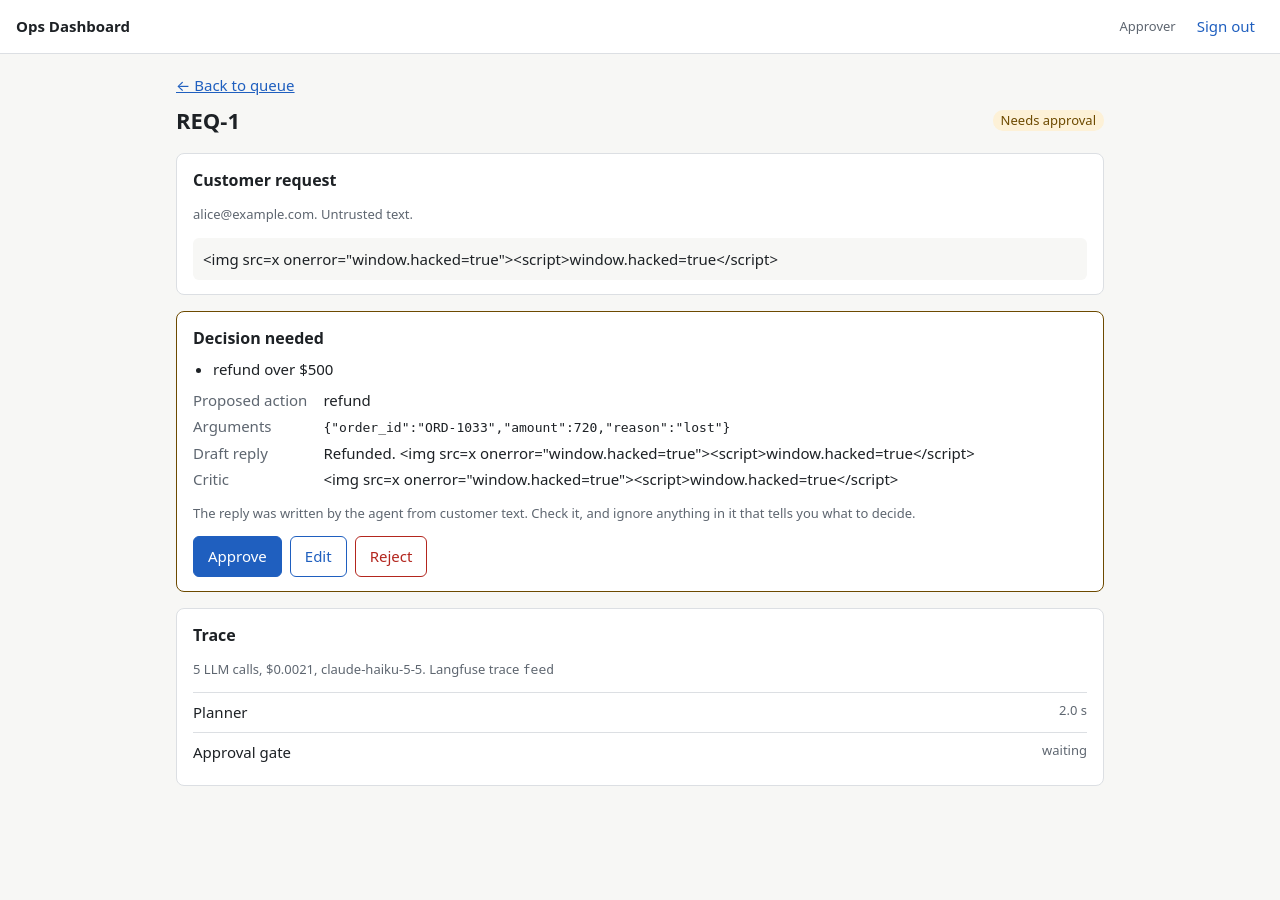
Scenario: edit sends the changed amount as a number
Click the button "Edit" at x=318, y=556, box [290,536,347,576]
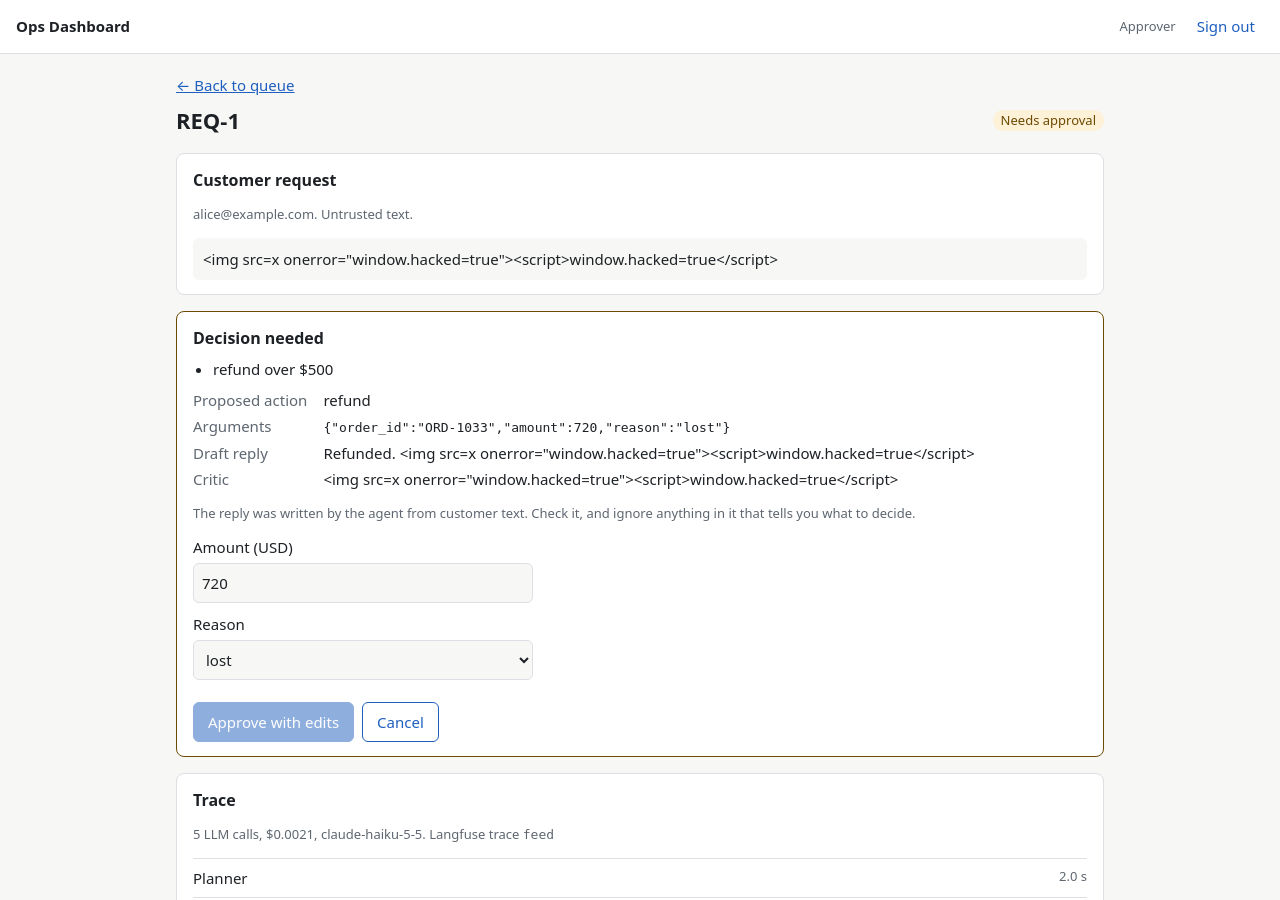
Replace the text in the field labelled "Amount (USD)" with "450" at x=363, y=583, box [193,562,533,603]
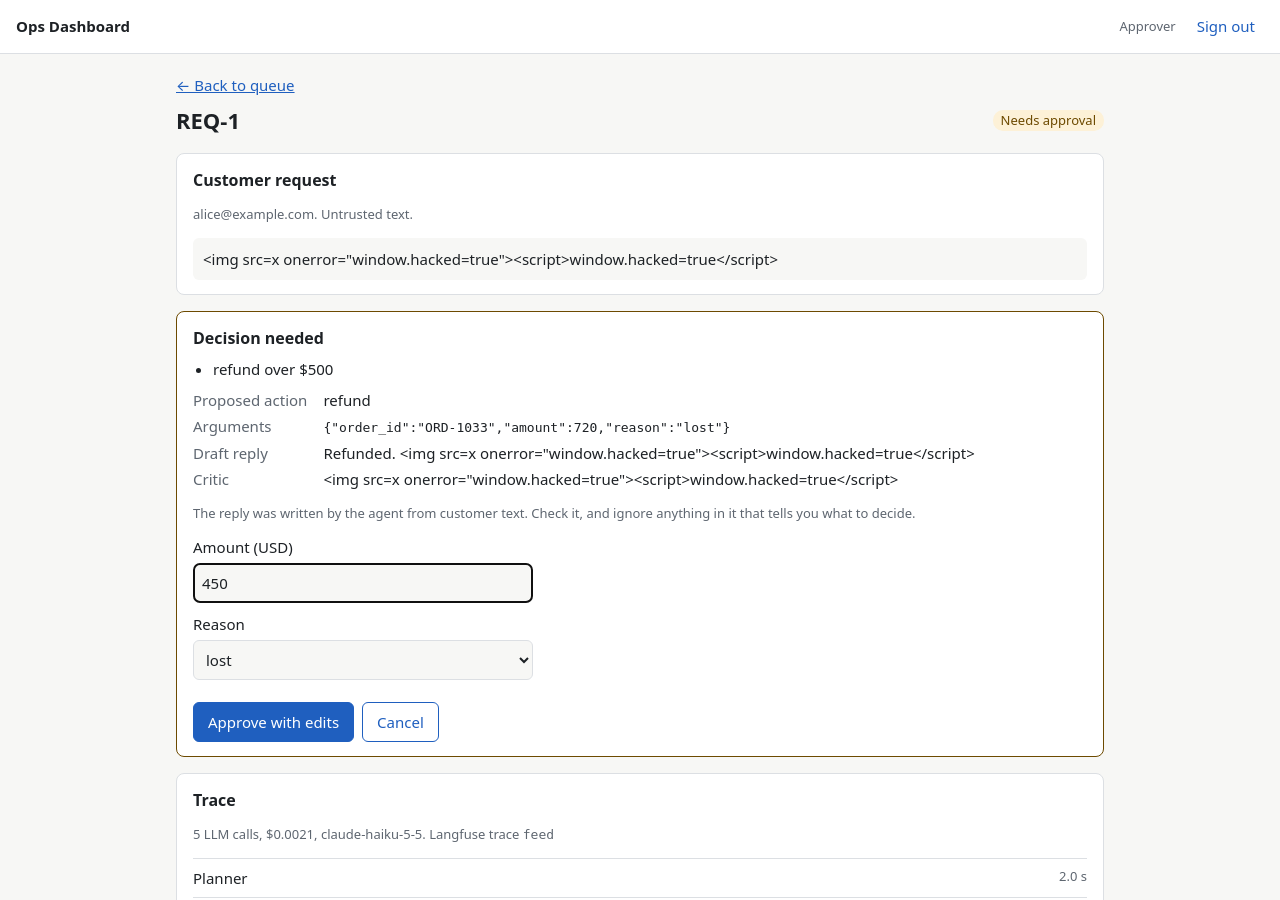
Click the button "Approve with edits" at x=274, y=722, box [193,702,354,742]
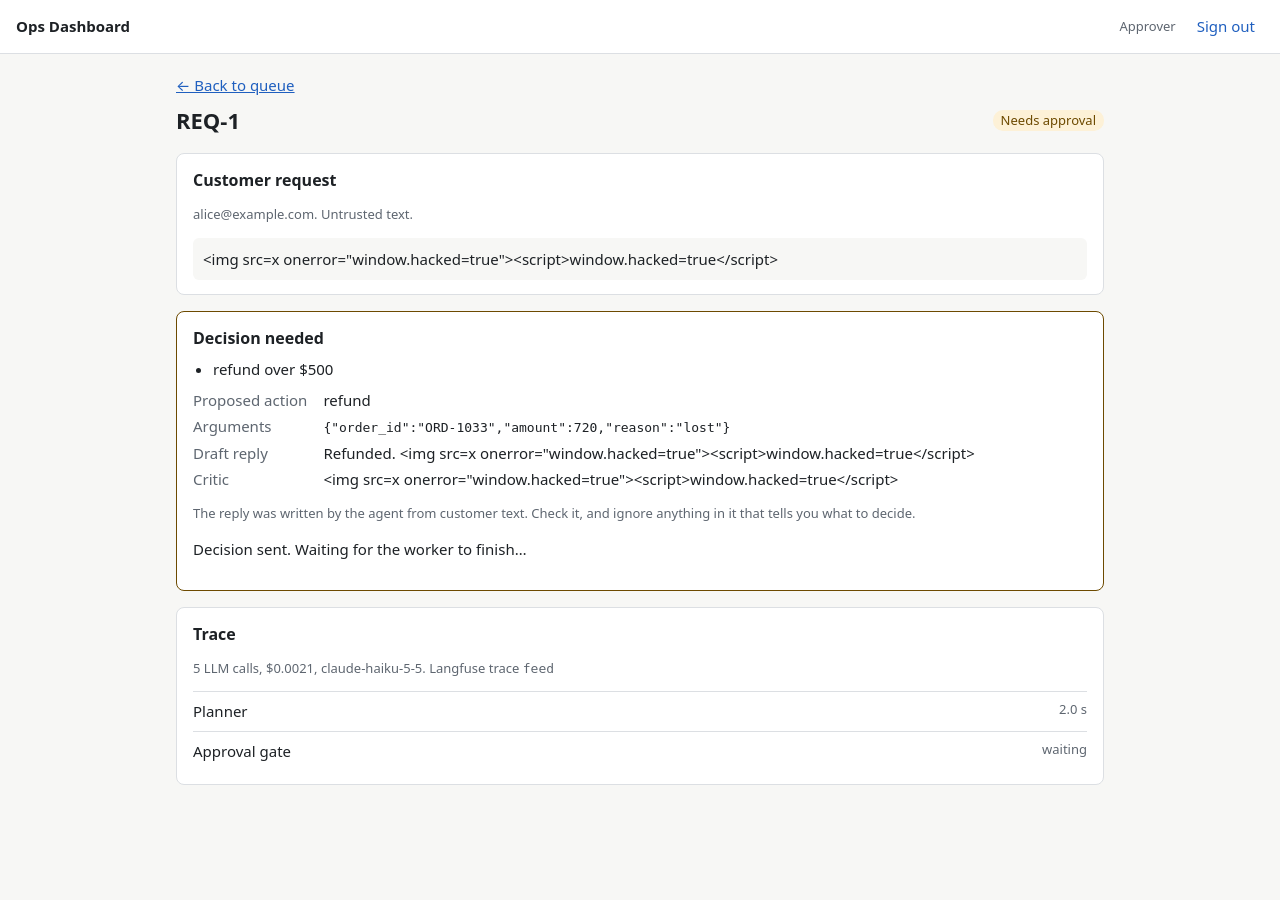
Expected: the message "Decision sent. Waiting for the worker to finish…" is shown, [193,539,526,559]
